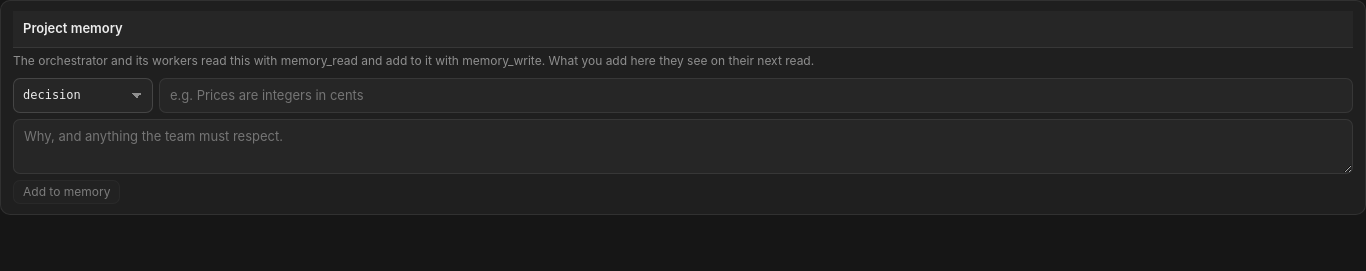
the team views of a run › adds to the project memory through the host and lists what is there
Type "Prices are cents" into the field named "Memory title" at (756, 95), box [159,78,1353,113]
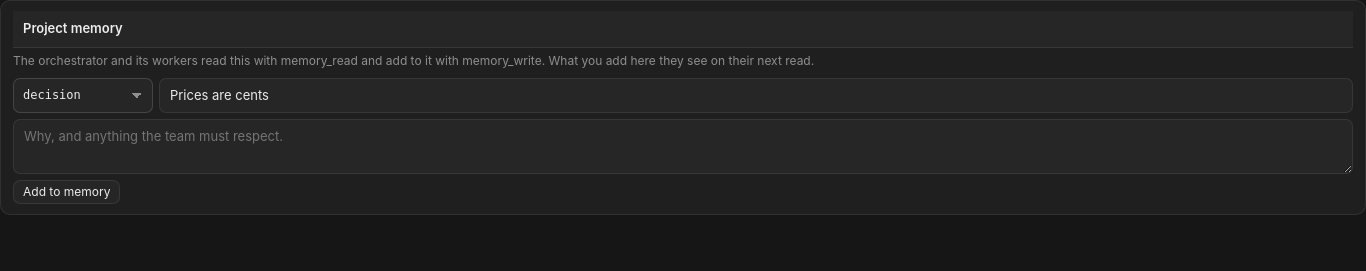
Click the button "Add to memory" at (67, 192), box [13,180,120,204]
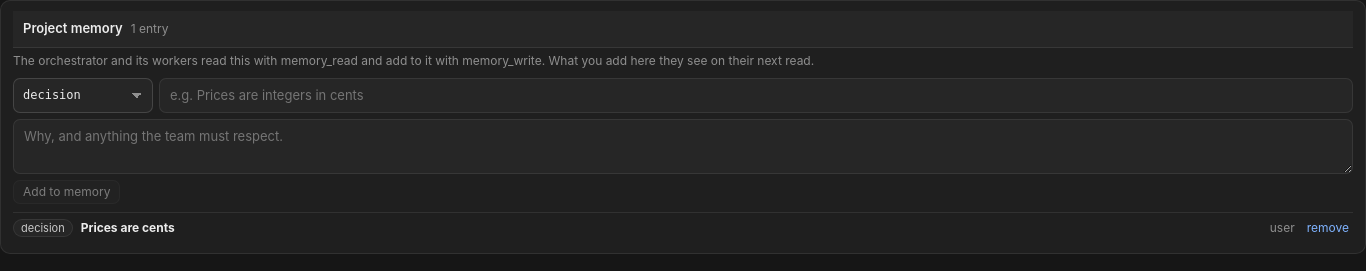
Expected: the text "Prices are cents" is shown, [81,220,175,235]
